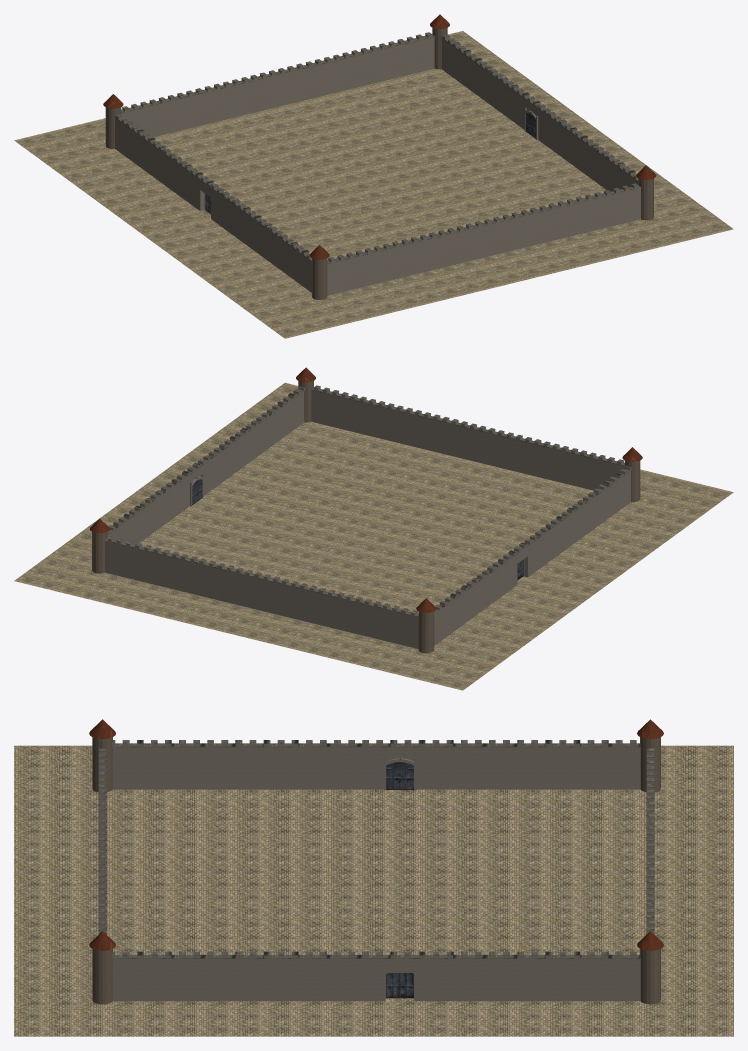
Rendered from castle_wall.glb.
3 renders of one model, top to bottom at view 1: azimuth 30°, elevation 25°; view 2: azimuth 150°, elevation 25°; view 3: azimuth 270°, elevation 25°, orthographic. The views are drawn at different scales.
Parts seen in each view (by area): view 1: Ground, Castle_Brick, Castle_Sandstone, Castle_TowerBrick, Castle_RoofSlates; view 2: Ground, Castle_Brick, Castle_Sandstone, Castle_TowerBrick, Castle_RoofSlates; view 3: Ground, Castle_Brick, Castle_Sandstone, Castle_TowerBrick, Castle_Doors, Castle_RoofSlates.
Boxes of the visible parts, x1,y1,x2,y2 form: Ground: (14, 31, 733, 338); Castle_Brick: (115, 34, 640, 295); Castle_Sandstone: (114, 32, 641, 263); Castle_TowerBrick: (105, 27, 653, 299); Castle_RoofSlates: (103, 14, 656, 259); Ground: (14, 382, 733, 690); Castle_Brick: (105, 387, 631, 648); Castle_Sandstone: (104, 385, 631, 617); Castle_TowerBrick: (92, 381, 640, 653); Castle_RoofSlates: (89, 367, 642, 612); Ground: (14, 745, 733, 1036); Castle_Brick: (98, 744, 654, 1001); Castle_Sandstone: (98, 740, 654, 958); Castle_TowerBrick: (92, 737, 660, 1004); Castle_Doors: (386, 762, 413, 998); Castle_RoofSlates: (89, 719, 663, 950).
Bounding box in the file's own units: 132 × 14.9 × 138.
Materials: 6 (6 with a texture image).
